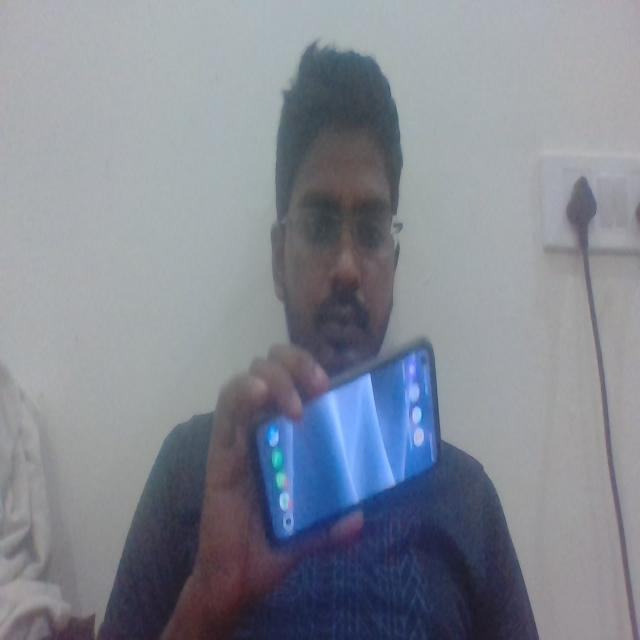Phone: (246, 331, 447, 555)
